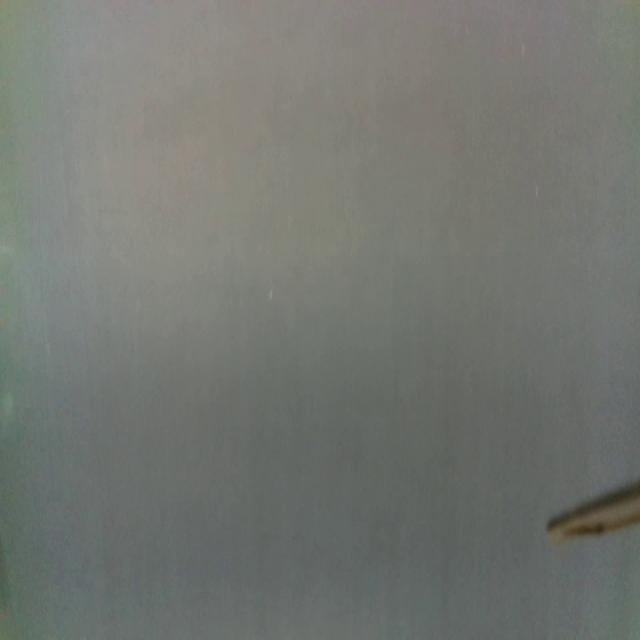hole: (266, 285, 277, 305), (520, 37, 528, 60), (534, 182, 542, 202)
